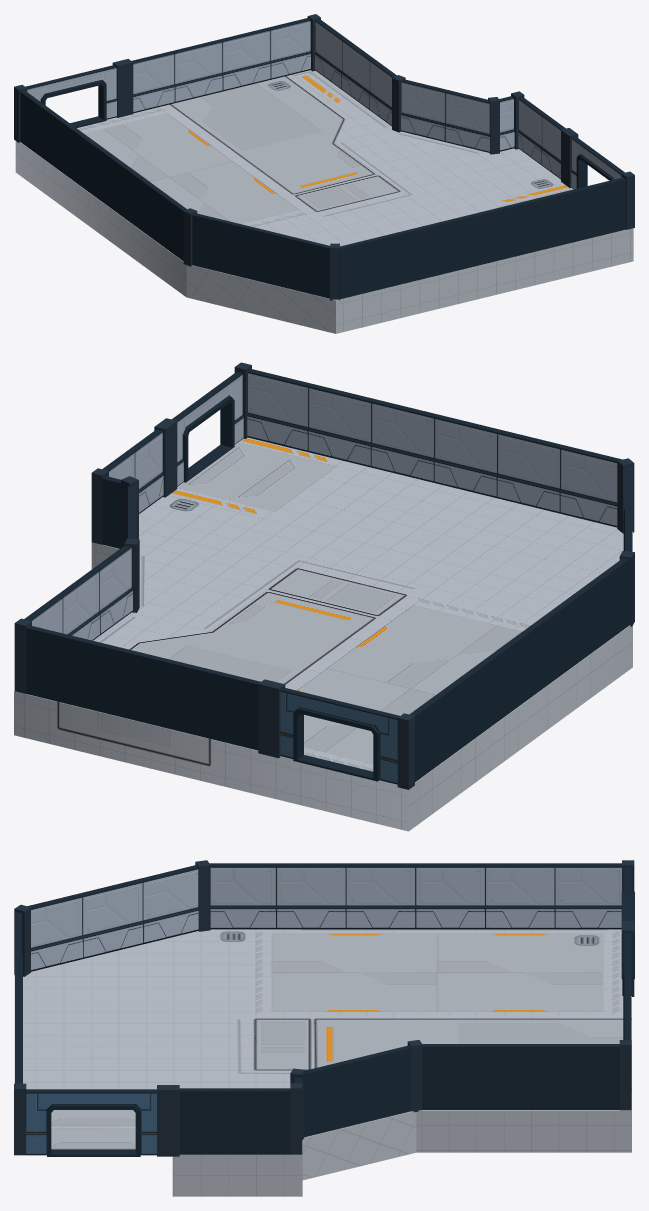
Rendered from Warehouse.dae.
The picture shows the model from 3 angles, top to bottom: view 1: azimuth 30°, elevation 25°; view 2: azimuth 150°, elevation 25°; view 3: azimuth 270°, elevation 25°; orthographic projection. The views are drawn at different scales.
Visible parts, largest first — view 1: Cube.196, Cube.206, Cube.153, Cube.194, Cube.026, Cube.033, Cube.025, Cube.205, Cube.034, Cube.006, Cube.085, Cube.023 (+6 smaller); view 2: Cube.196, Cube.206, Cube.153, Cube.194, Cube.205, Cube.025, Cube.006, Cube.034, Cube.085, Cube.193, Cube.023, Cube.097 (+6 smaller); view 3: Cube.196, Cube.194, Cube.025, Cube.026, Cube.034, Cube.033, Cube.006, Cube.097, Cube.206, Cube.100, Cube.095, Cube.094 (+6 smaller).
Part boxes in pixels (bbox=[...]): Cube.196: bbox=[15, 70, 633, 333]; Cube.206: bbox=[339, 177, 625, 299]; Cube.153: bbox=[132, 18, 310, 113]; Cube.194: bbox=[20, 90, 186, 260]; Cube.026: bbox=[192, 213, 329, 298]; Cube.033: bbox=[401, 79, 489, 152]; Cube.025: bbox=[315, 19, 396, 126]; Cube.205: bbox=[25, 65, 116, 128]; Cube.034: bbox=[518, 97, 565, 179]; Cube.006: bbox=[571, 137, 624, 189]; Cube.085: bbox=[112, 59, 133, 117]; Cube.023: bbox=[499, 96, 514, 151]; Cube.196: bbox=[14, 437, 632, 831]; Cube.206: bbox=[247, 369, 622, 527]; Cube.153: bbox=[26, 625, 260, 750]; Cube.194: bbox=[409, 558, 629, 781]; Cube.205: bbox=[280, 687, 399, 784]; Cube.025: bbox=[24, 546, 132, 640]; Cube.006: bbox=[172, 372, 243, 486]; Cube.034: bbox=[102, 429, 163, 513]; Cube.085: bbox=[258, 679, 285, 758]; Cube.193: bbox=[397, 713, 414, 789]; Cube.023: bbox=[102, 476, 120, 548]; Cube.097: bbox=[154, 418, 177, 497]; Cube.196: bbox=[14, 929, 631, 1196]; Cube.194: bbox=[209, 863, 621, 929]; Cube.025: bbox=[422, 1044, 619, 1109]; Cube.026: bbox=[27, 865, 198, 971]; Cube.034: bbox=[179, 1088, 290, 1154]; Cube.033: bbox=[304, 1045, 411, 1136]; Cube.006: bbox=[26, 1089, 156, 1156]; Cube.097: bbox=[157, 1085, 179, 1156]; Cube.206: bbox=[15, 911, 22, 1083]; Cube.100: bbox=[14, 1083, 26, 1155]; Cube.095: bbox=[290, 1083, 302, 1154]; Cube.094: bbox=[195, 860, 210, 931].
Size of the model in its own units: 23.49 by 26.75 by 5.16.
